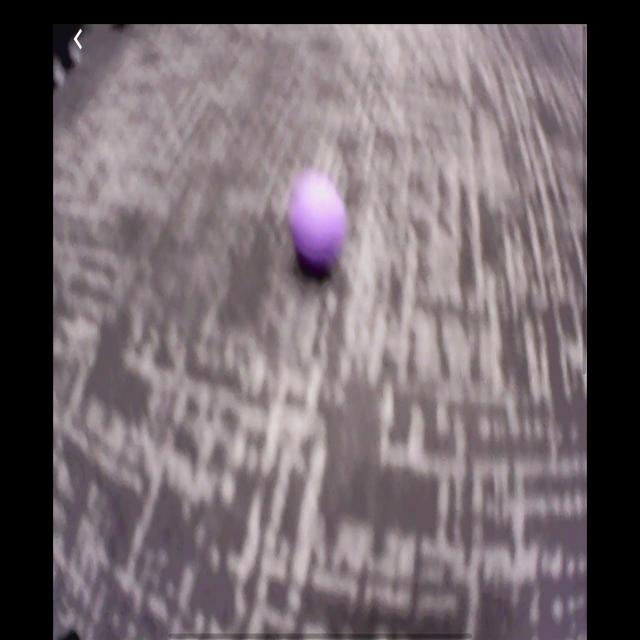ball: (287, 166, 349, 280)
